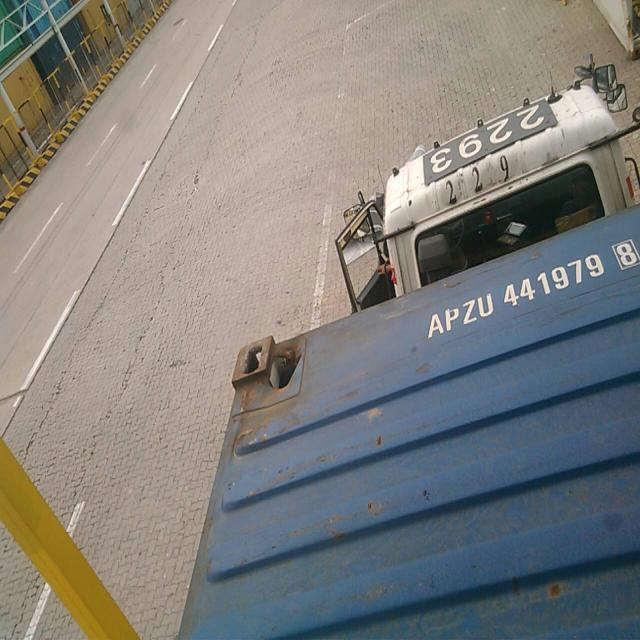hole: (271, 344, 307, 392)
